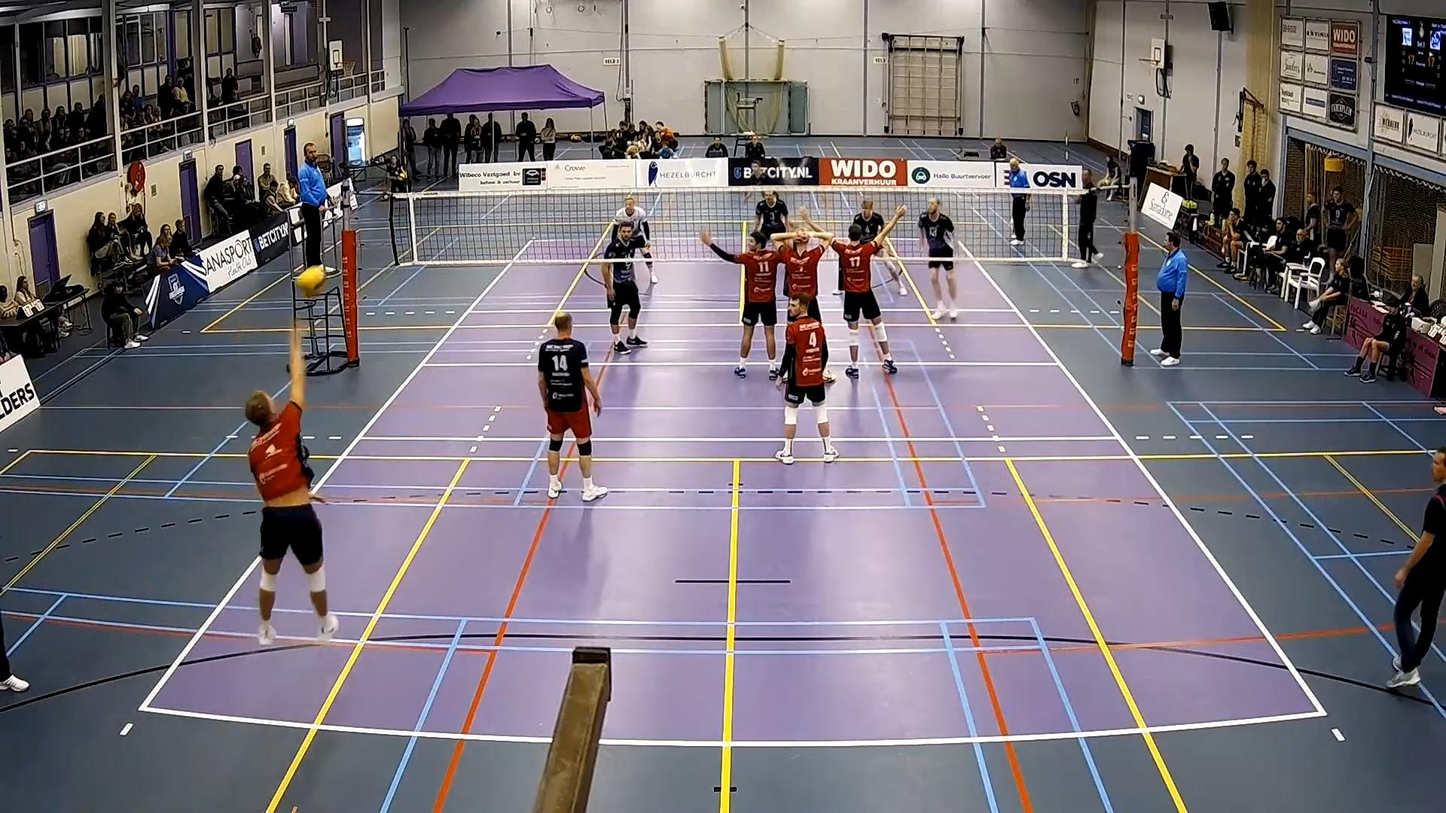Player: (814, 206, 905, 377), (538, 312, 607, 501), (699, 230, 779, 379), (775, 295, 837, 464), (599, 224, 647, 354), (918, 199, 956, 319), (773, 230, 823, 320), (773, 231, 823, 321), (754, 190, 789, 238), (613, 195, 649, 240), (853, 199, 884, 242)
Serve: (246, 315, 335, 644)
ball: (296, 267, 329, 294)
